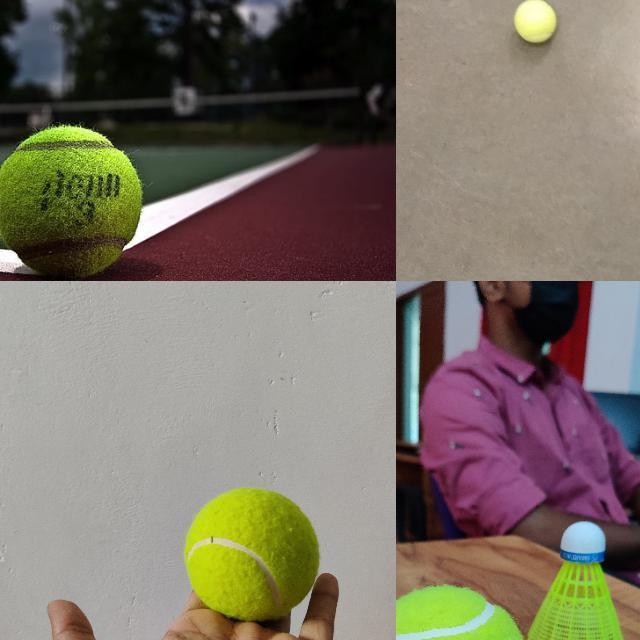tennis-ball: (0, 124, 143, 277), (182, 487, 320, 623), (396, 587, 528, 639), (513, 0, 557, 43)
